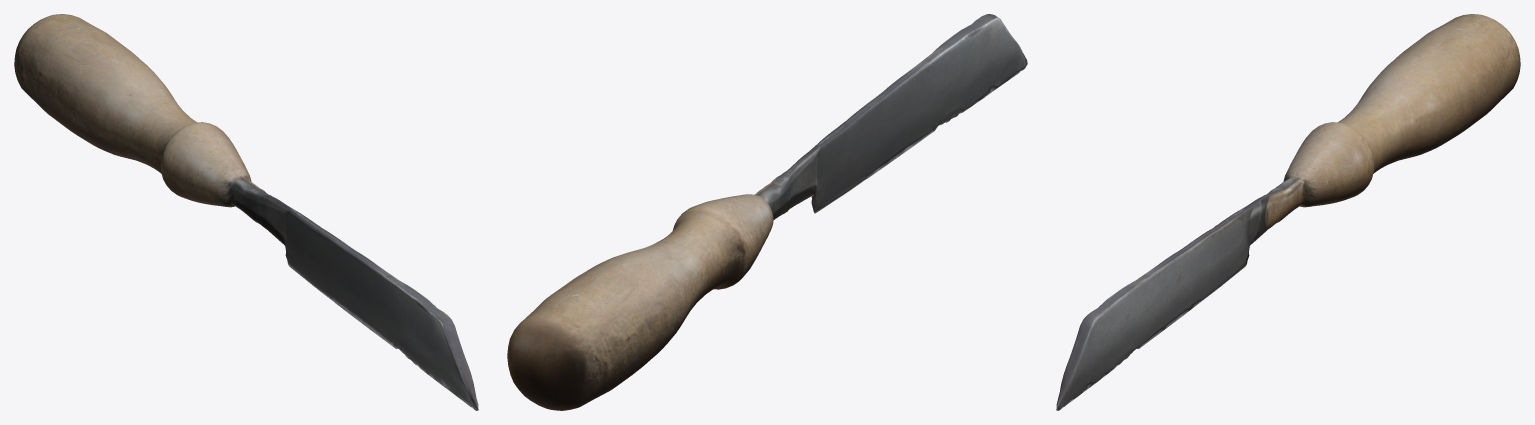
The model's file is chisel_1203054600_refine.fbx.
The picture shows the model from 3 angles, left to right: view 1: azimuth 30°, elevation 25°; view 2: azimuth 150°, elevation 25°; view 3: azimuth 330°, elevation 25°; orthographic projection. The views are drawn at different scales.
Visible parts, largest first — view 1: Mesh1_Mesh1.029; view 2: Mesh1_Mesh1.029; view 3: Mesh1_Mesh1.029.
Boxes of the visible parts, bbox=[...] form: Mesh1_Mesh1.029: bbox=[14, 14, 478, 410]; Mesh1_Mesh1.029: bbox=[507, 14, 1027, 410]; Mesh1_Mesh1.029: bbox=[1056, 14, 1520, 410].
Bounding box in the file's own units: 22.74 × 22.87 × 199.
1 material, 1 textured.
